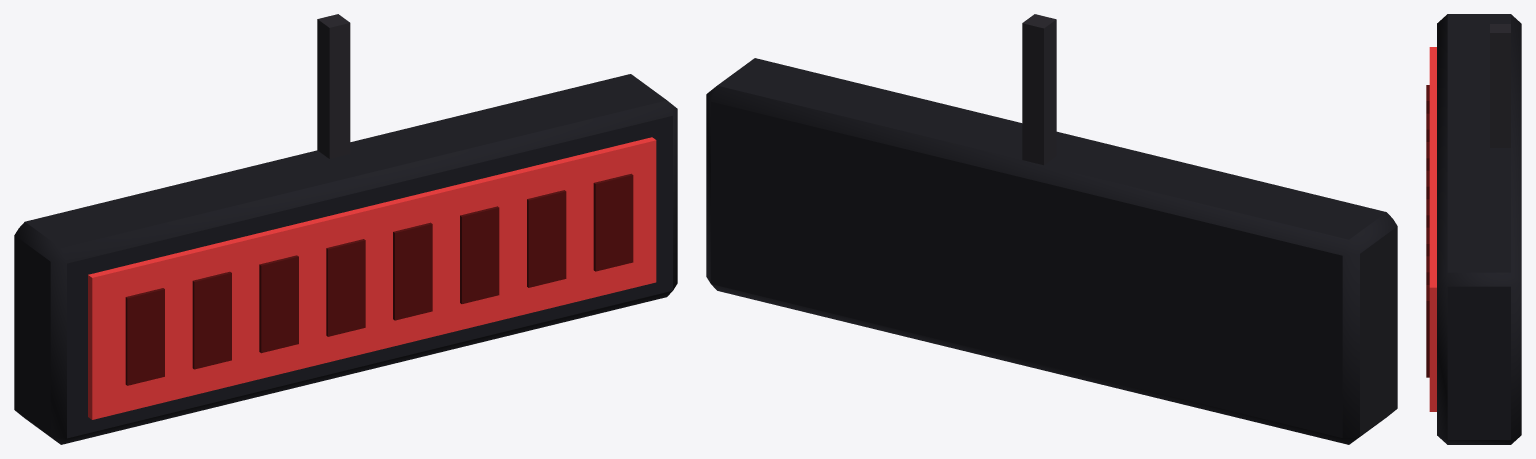
The model's file is applause_sign.glb.
3 views of the same model, side by side, from view 1: azimuth 30°, elevation 25°; view 2: azimuth 150°, elevation 25°; view 3: azimuth 270°, elevation 25° (orthographic). The views are drawn at different scales.
Parts seen in each view (by area): view 1: applause_sign; view 2: applause_sign; view 3: applause_sign.
Boxes of the visible parts, box(x1,y1,x2,y2) form: applause_sign: box(14, 14, 677, 444); applause_sign: box(706, 14, 1397, 444); applause_sign: box(1426, 14, 1521, 444).
Size of the model in its own units: 3 by 1.5 by 0.45.
